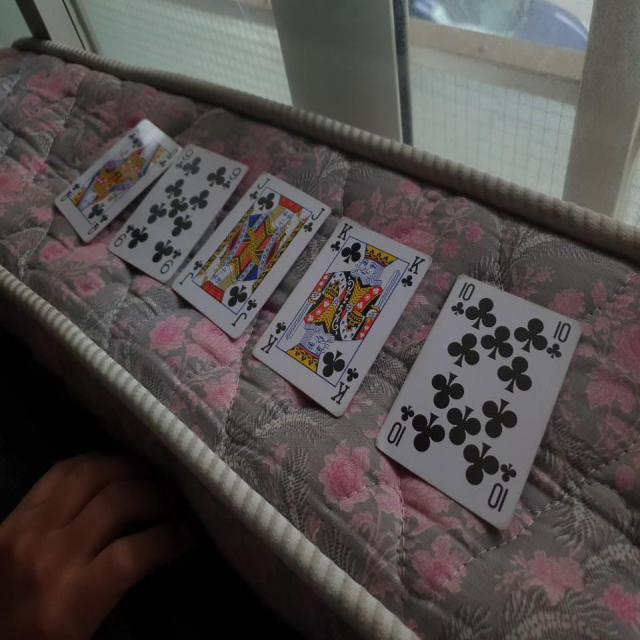10 Trefoils: (374, 268, 583, 530)
9 Trefoils: (104, 142, 249, 286)
J Trefoils: (170, 172, 332, 338)
K Trefoils: (249, 216, 433, 420)
Q Trefoils: (56, 113, 181, 244)
